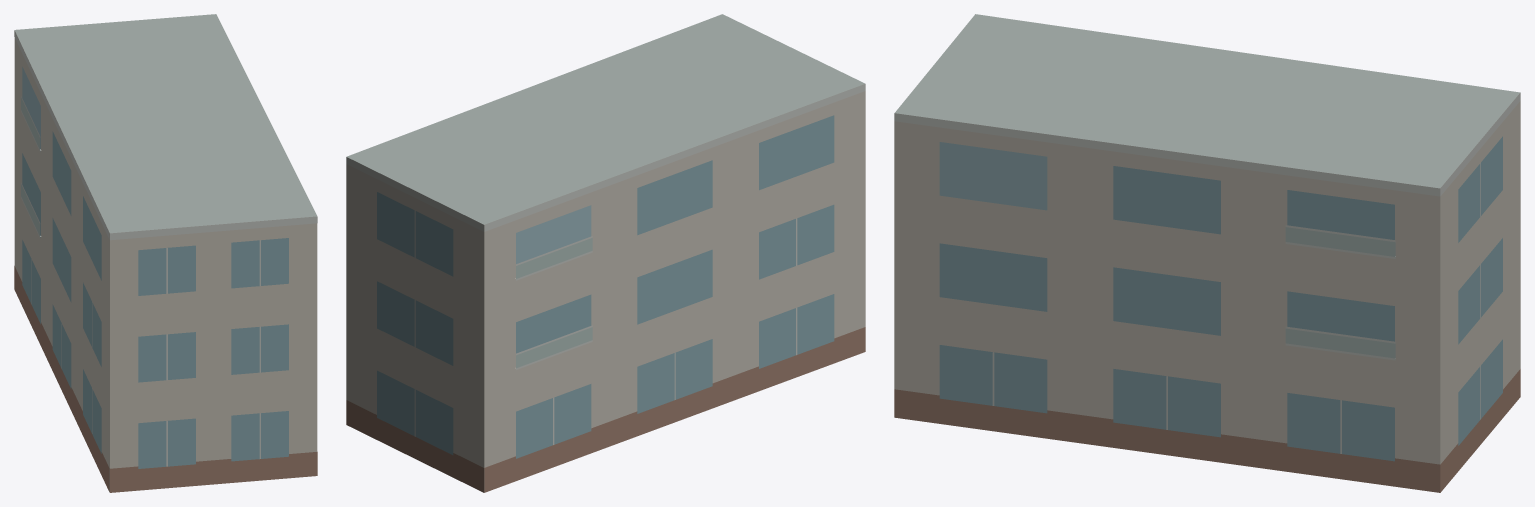
Rendered from survey-upis-32720683.glb.
3 views of the same model, side by side, from view 1: azimuth 30°, elevation 25°; view 2: azimuth 150°, elevation 25°; view 3: azimuth 270°, elevation 25° (orthographic). The views are drawn at different scales.
Visible parts, largest first — view 1: survey-upis-32720683.tmp; view 2: survey-upis-32720683.tmp; view 3: survey-upis-32720683.tmp.
Part boxes in pixels (x1,y1,x2,y2): survey-upis-32720683.tmp: [14, 14, 317, 492]; survey-upis-32720683.tmp: [346, 14, 865, 492]; survey-upis-32720683.tmp: [894, 14, 1520, 492].
Bounding box in the file's own units: 11.25 × 9.15 × 17.07.
